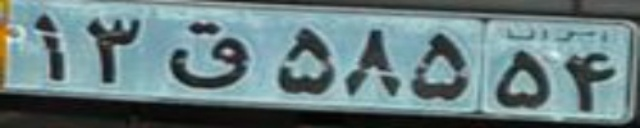1: (32, 13, 66, 80)
3: (85, 16, 147, 84)
4: (563, 51, 618, 111)
5: (273, 27, 334, 94), (409, 32, 468, 99), (491, 49, 550, 108)
8: (345, 28, 404, 96)
ghaf: (163, 21, 247, 89)
